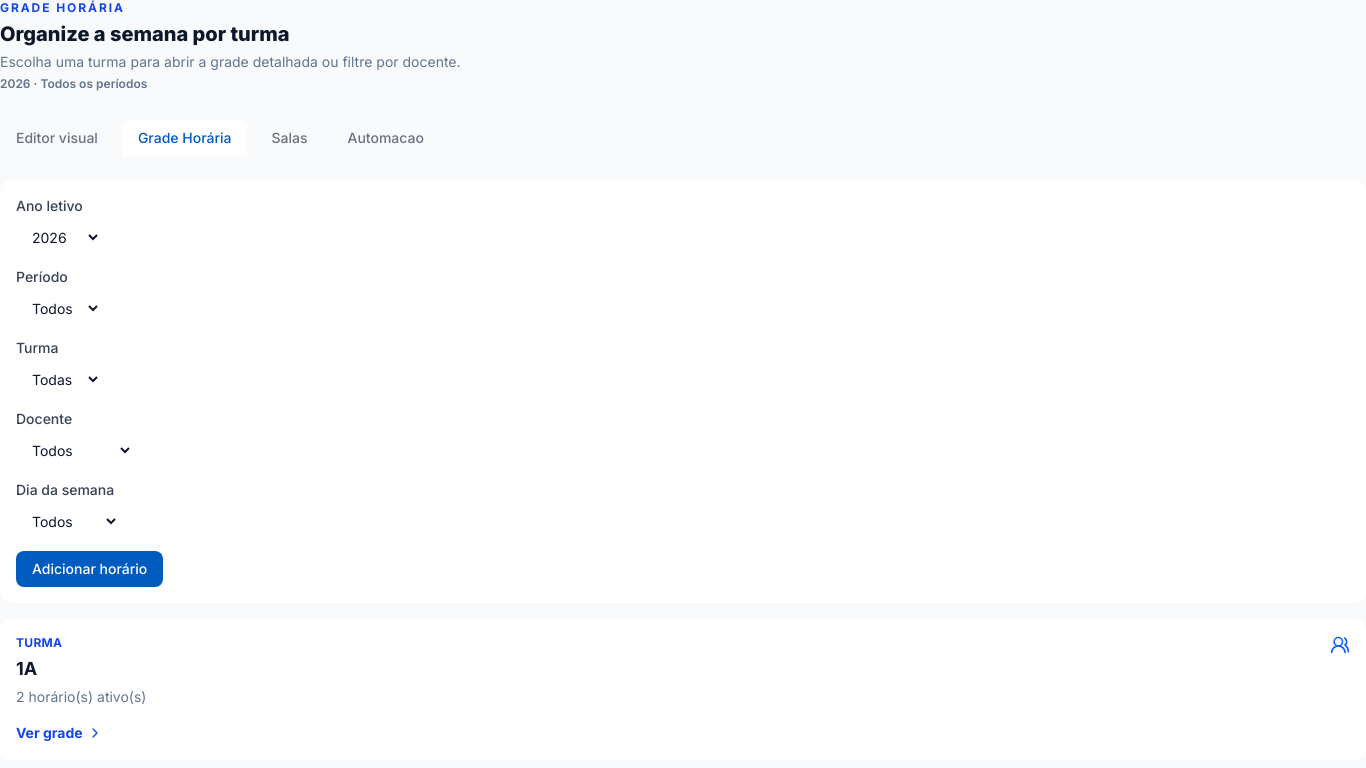
Test: TimetableTab › abre modal de sala ao clicar em Criar sala manualmente
Click the tab "Salas": (289, 138) [255,120,323,156]
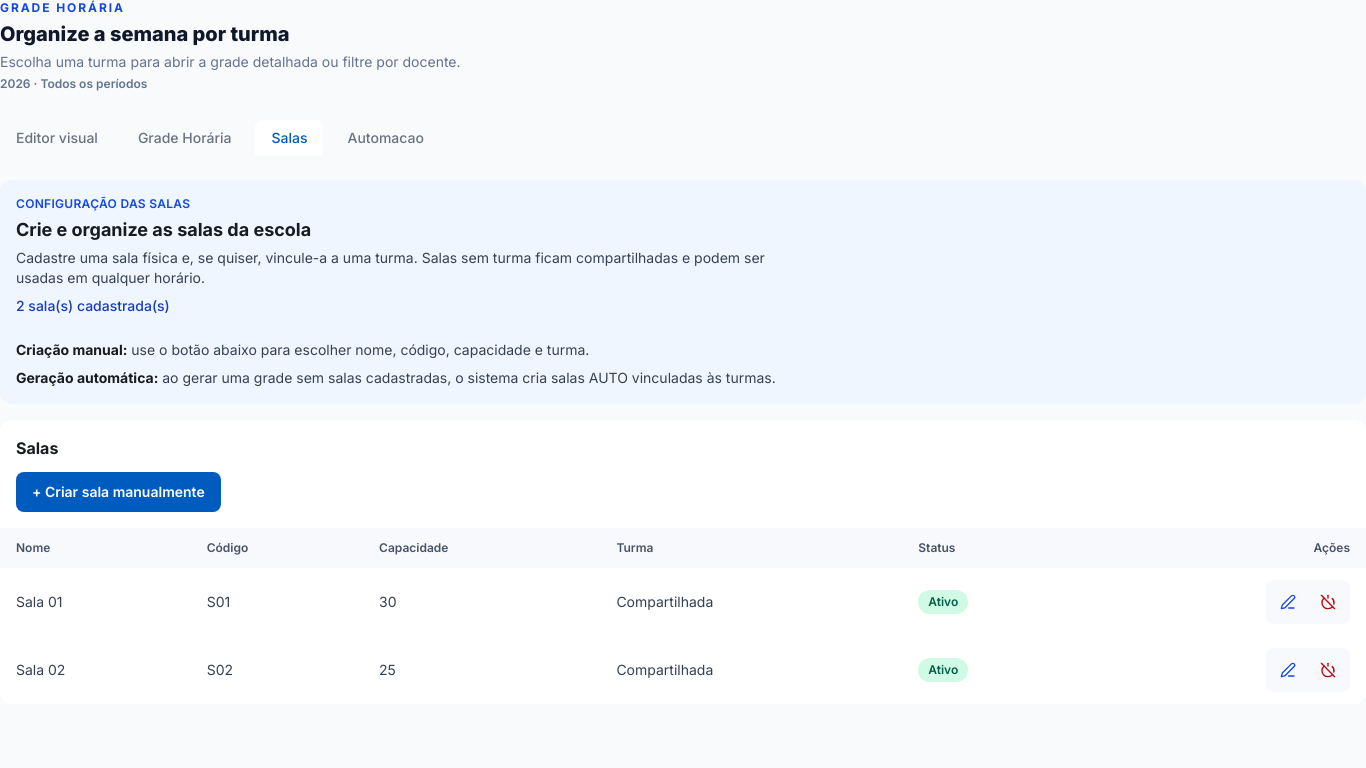
Click the button "+ Criar sala manualmente": (118, 492) [16,472,221,512]
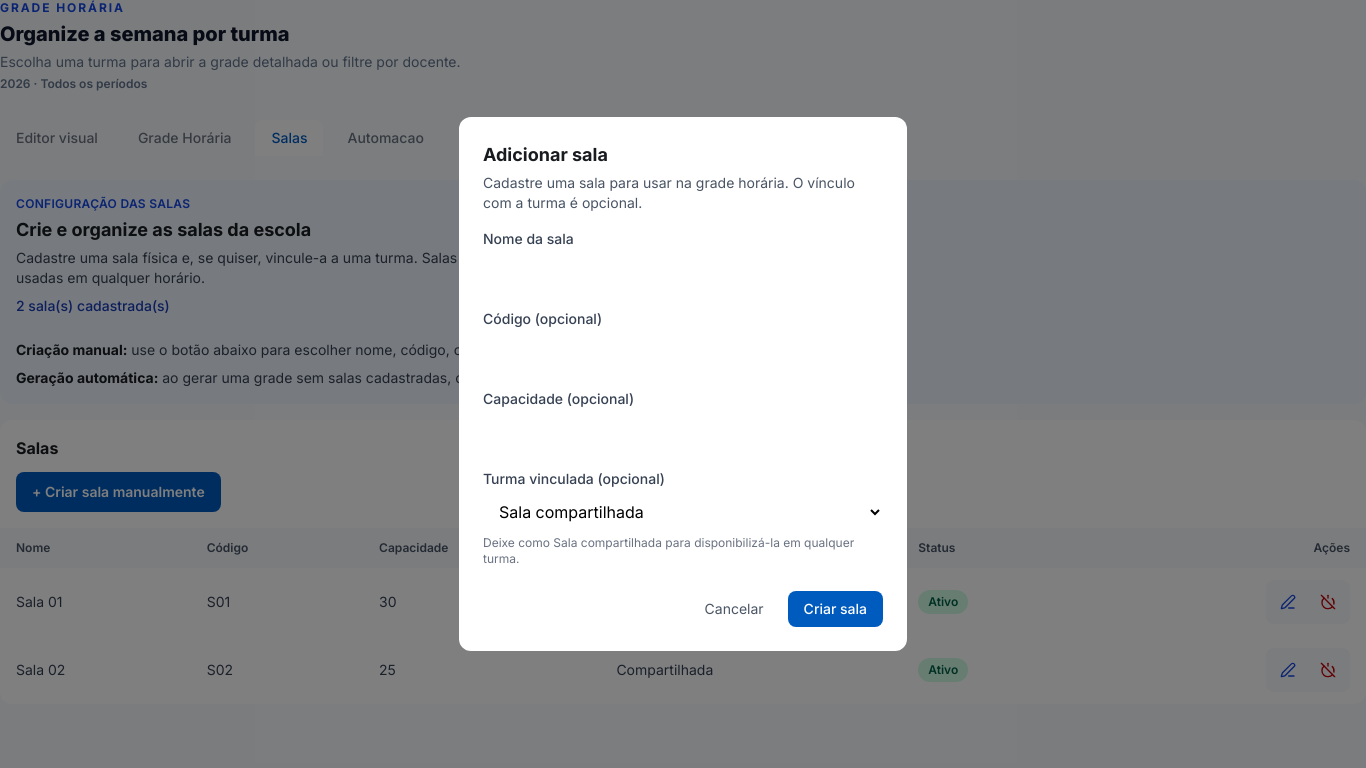
Check: the dropdown labelled "Turma vinculada (opcional)" is shown, box [483,493,883,531]
Check: the text "O vínculo com a turma é opcional" is shown, box [483,174,855,211]
